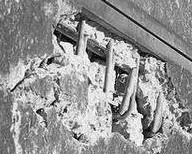Exposed reinforcement: (55, 21, 131, 73), (115, 53, 141, 120), (103, 38, 116, 93), (151, 91, 165, 133), (76, 19, 88, 57)
Spalling: (9, 6, 192, 149)
